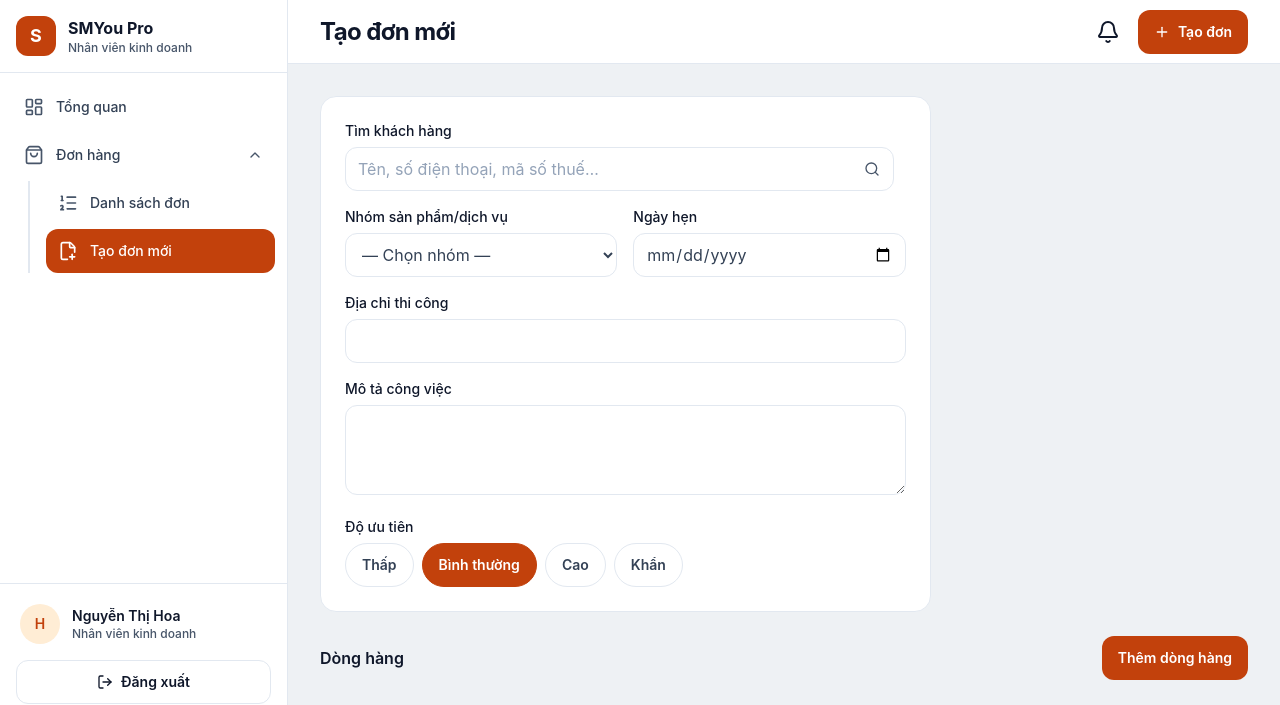
Test case: AC-ORD-158..166 disable Lưu nháp/Gửi đơn khi thiếu thông tin › AC-ORD-159 đã chọn khách, chưa có dòng → disabled, helper chỉ thiếu dòng hàng
Type "sáng tạo" into the dropdown labelled "Tìm khách hàng" at (619, 169), box x1=345 y1=147 x2=894 y2=191
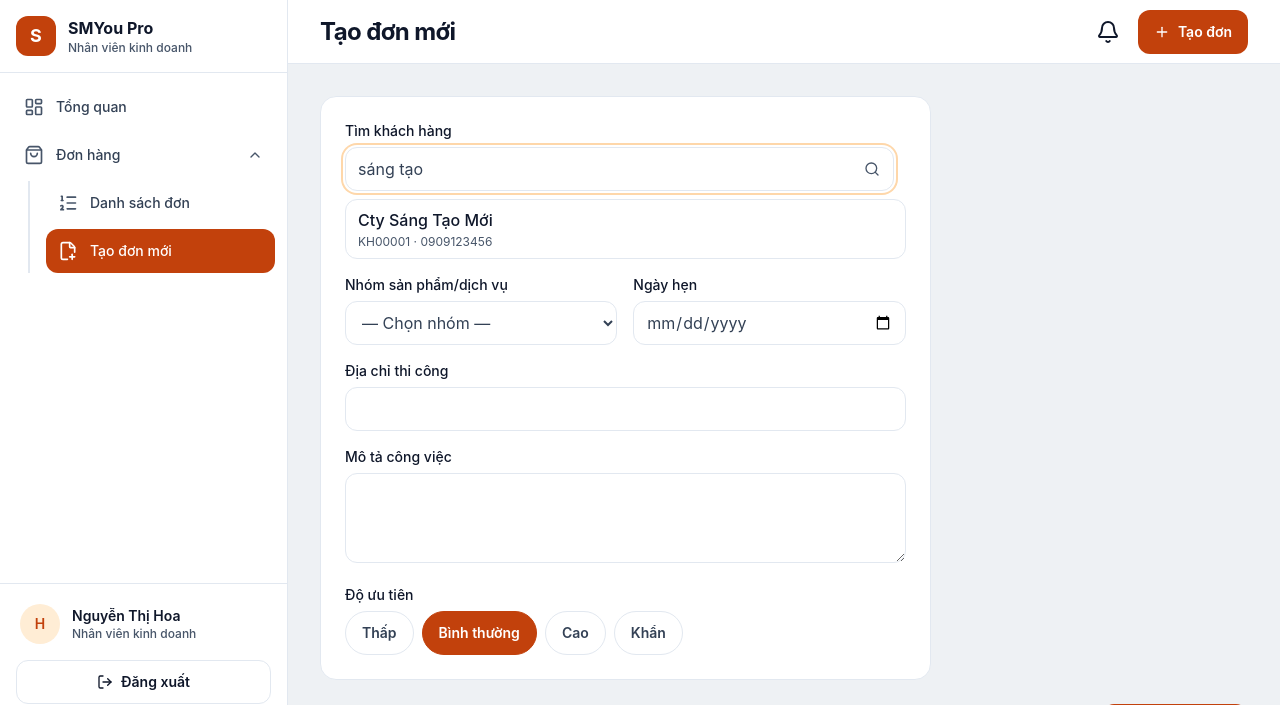
Click the option "Cty Sáng Tạo Mới KH00001 · 0909123456" at (425, 230), box x1=358 y1=210 x2=493 y2=249
(page scrolled)
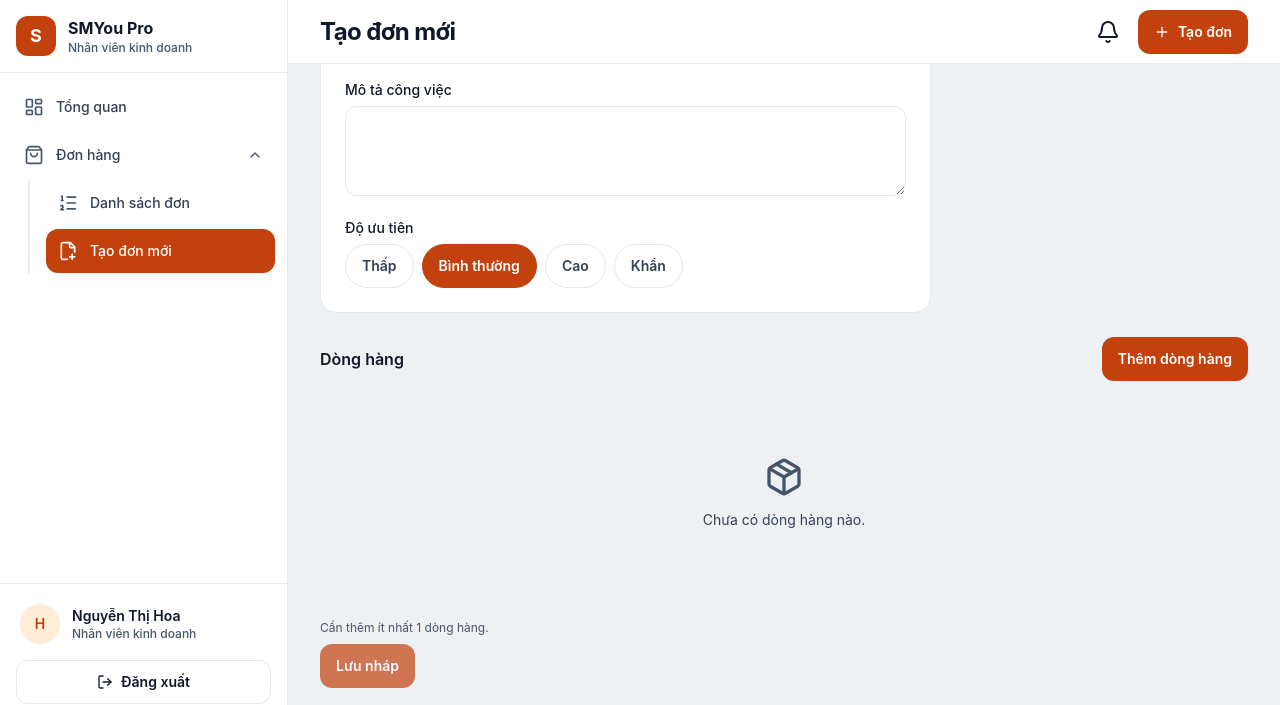
Check: the button "Lưu nháp" is disabled, box x1=320 y1=644 x2=415 y2=688
Check: the text "Cần thêm ít nhất 1 dòng hàng." is shown, box x1=320 y1=620 x2=489 y2=635
